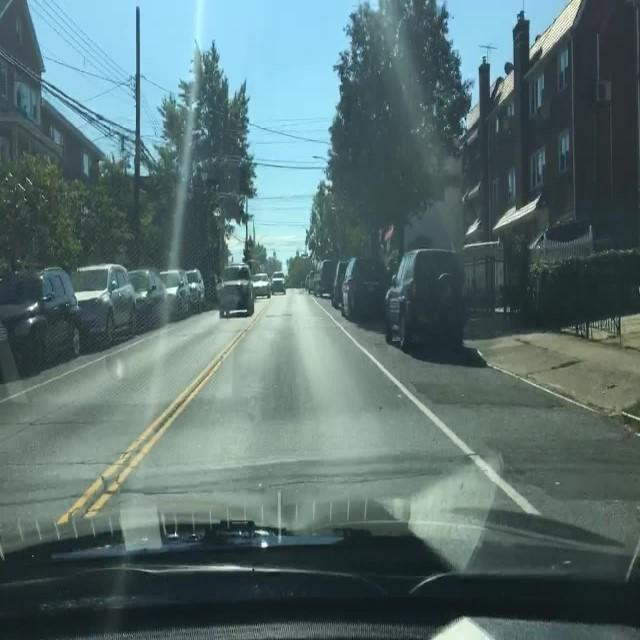normal: (220, 281, 256, 318), (128, 269, 164, 302), (250, 272, 271, 299), (270, 272, 287, 293)
